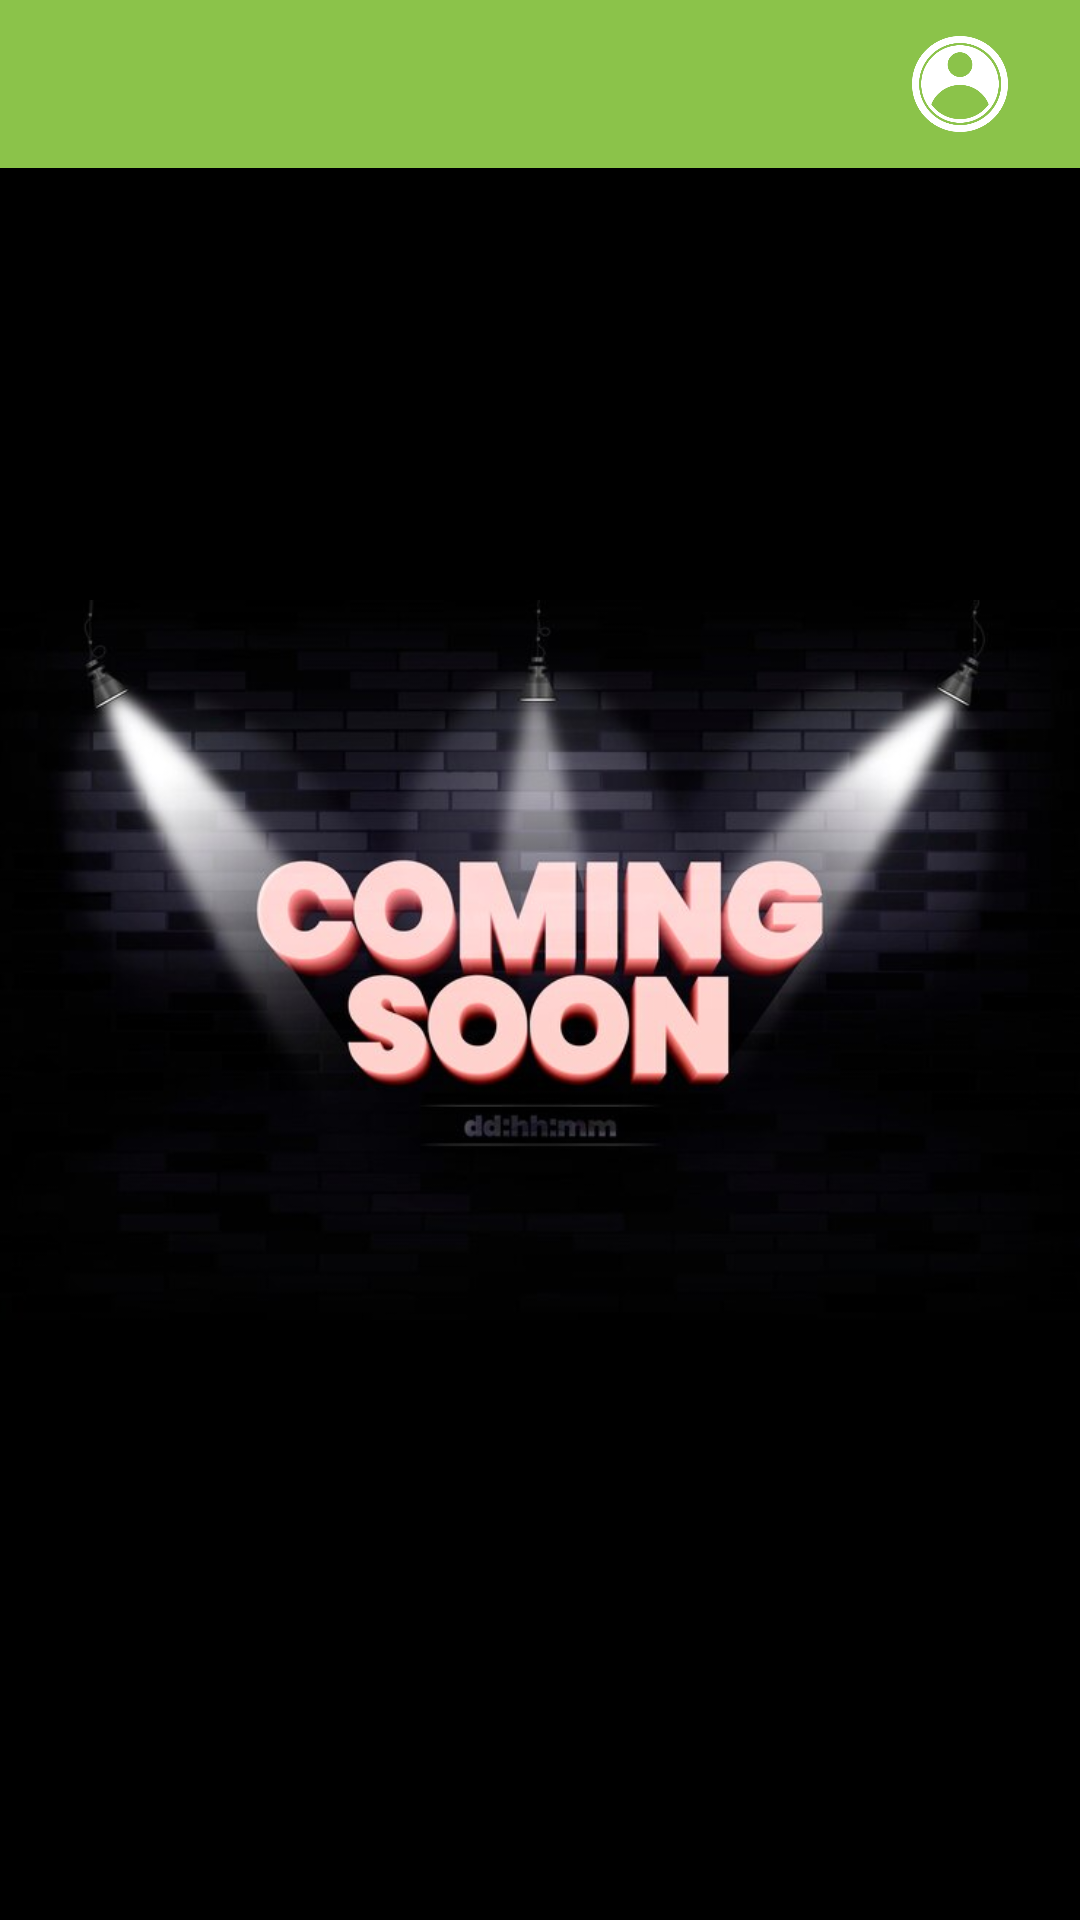

Point at icon controls on the screen. Image size 1080px×1920px, points as [x,y].
userima: [960,84]
